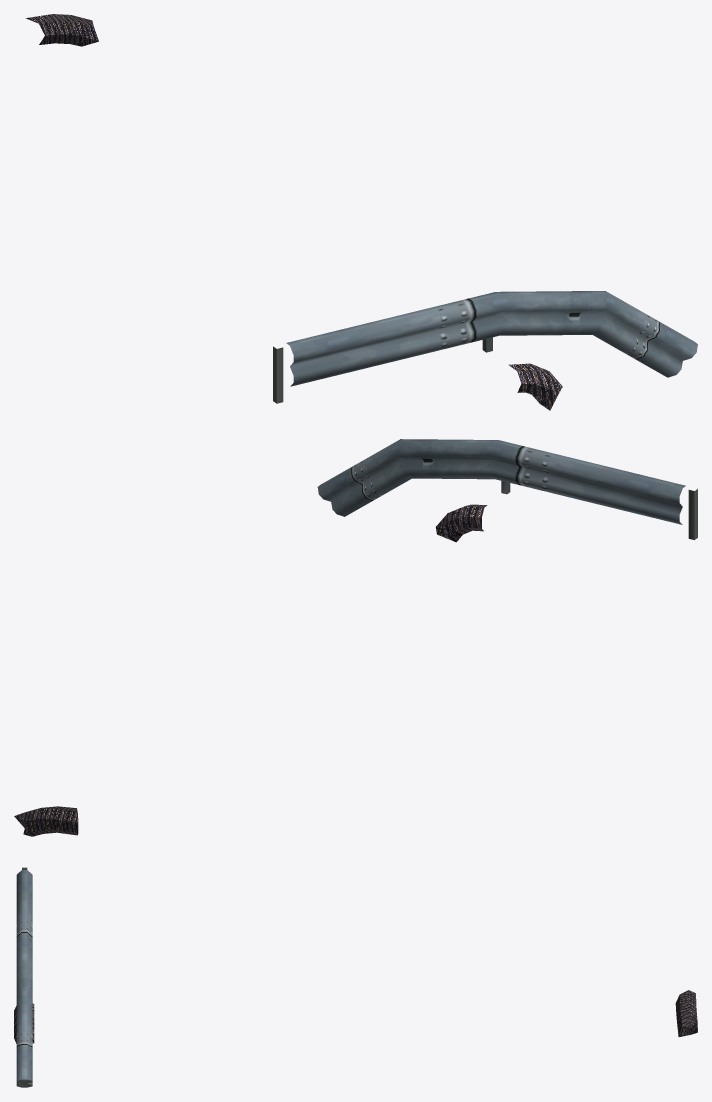
File: M2_Zone4_FlyOver6_F.glb
The picture shows the model from 3 angles, top to bottom: view 1: azimuth 30°, elevation 25°; view 2: azimuth 150°, elevation 25°; view 3: azimuth 270°, elevation 25°; orthographic projection. The views are drawn at different scales.
Parts seen in each view (by area): view 1: M2_ZONE4_FLYOVER6_F; view 2: M2_ZONE4_FLYOVER6_F; view 3: M2_ZONE4_FLYOVER6_F.
Boxes of the visible parts, <box> form: M2_ZONE4_FLYOVER6_F: <box>25,14,697,410</box>; M2_ZONE4_FLYOVER6_F: <box>14,439,697,836</box>; M2_ZONE4_FLYOVER6_F: <box>14,867,697,1087</box>.
Size of the model in its own units: 8.04 by 2.3 by 16.02.
Materials: 3 (3 with a texture image).
